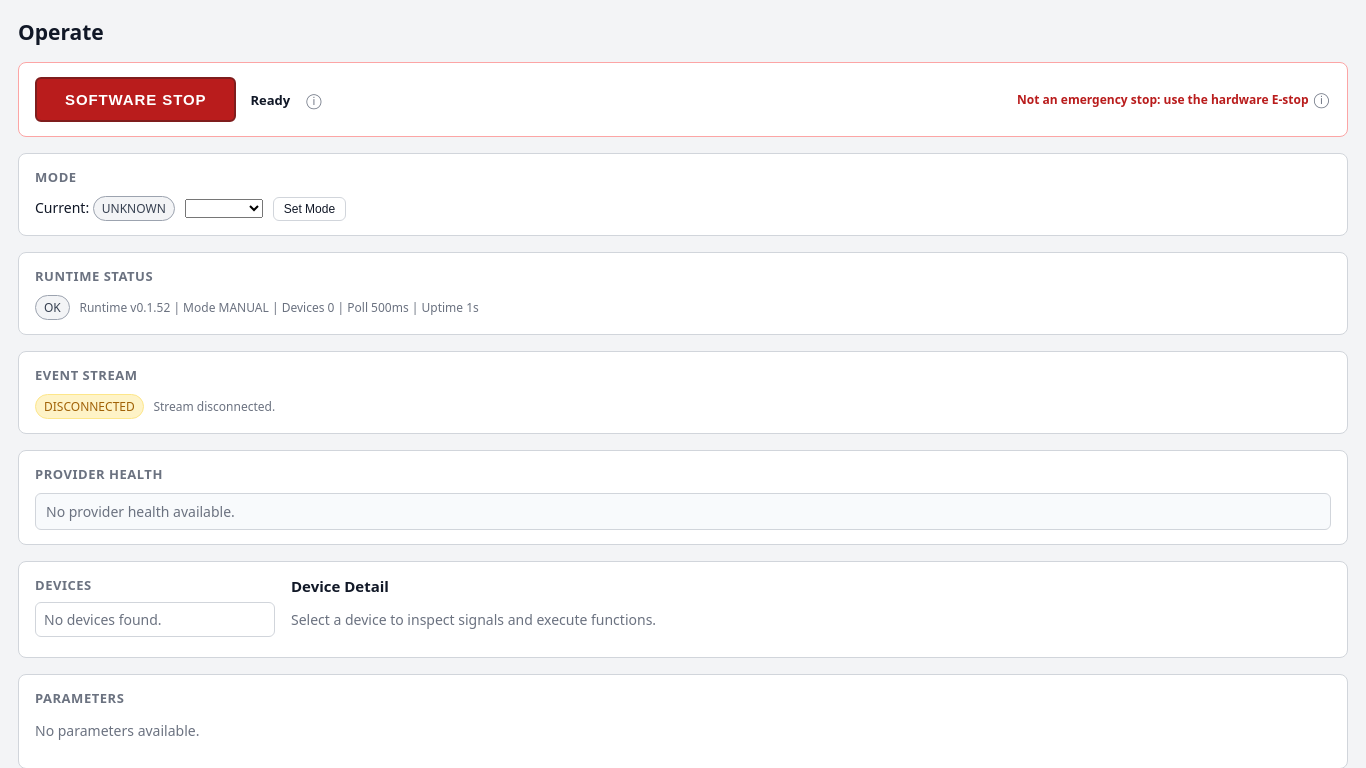
it: Operate.svelte — the software stop card is one row (#613) › under zero: Ready in the row, the rung behind its ⓘ
The width and height of the screenshot is (1366, 768).
Check: the text with test id "estop-state" reads "Ready", box top-left (250, 90), bottom-right (290, 108)
Click the button named "About the software stop" at (314, 100), box top-left (304, 92), bottom-right (324, 107)
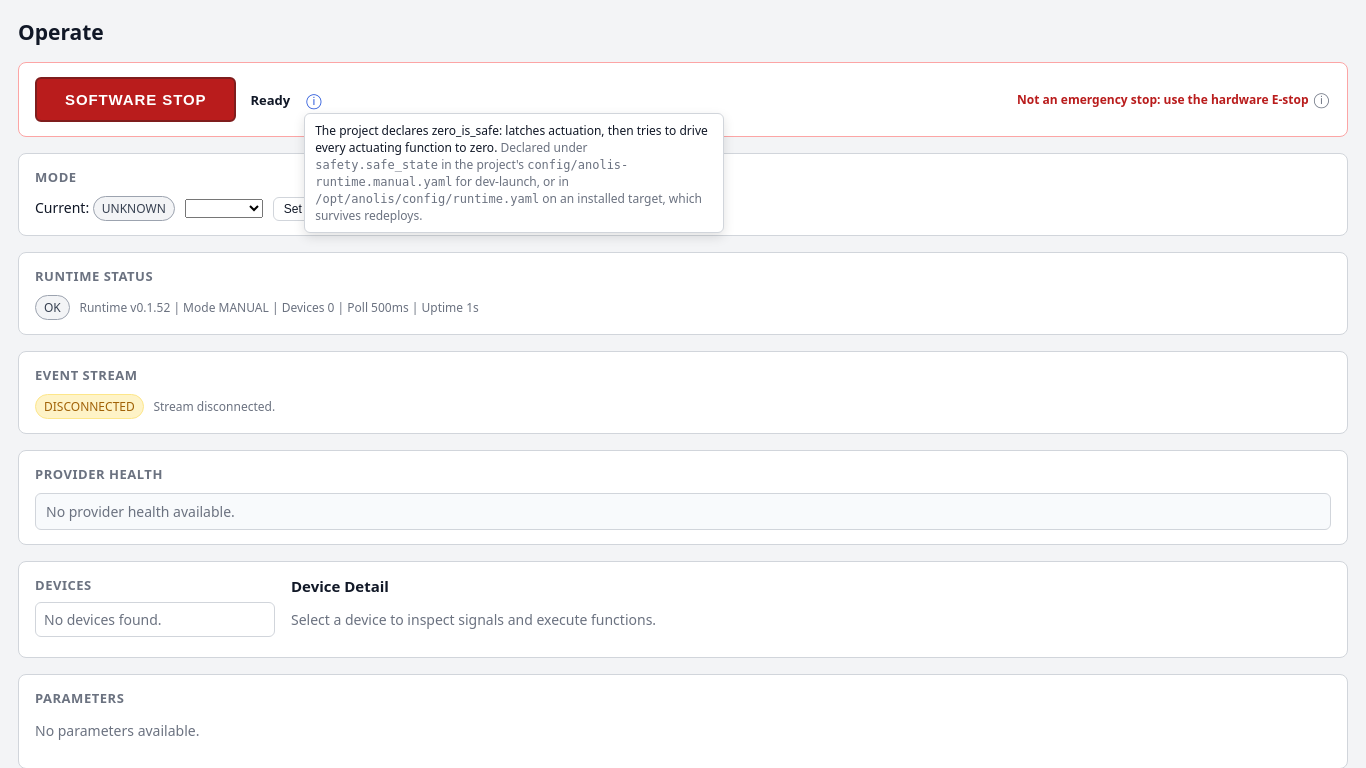
Check: the text "latches actuation, then tries to drive every actuating function to zero" is shown, box top-left (315, 122), bottom-right (708, 156)
Check: the element with test id "safe-state-fix" is shown, box top-left (315, 139), bottom-right (702, 224)
